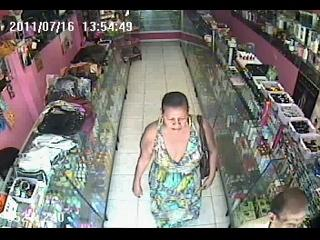Normal: (132, 92, 219, 228), (257, 187, 310, 228)
